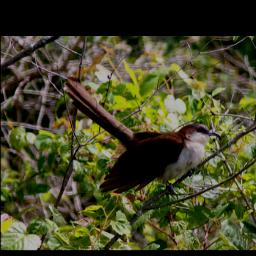Cuckoo: (98, 74, 223, 199)
